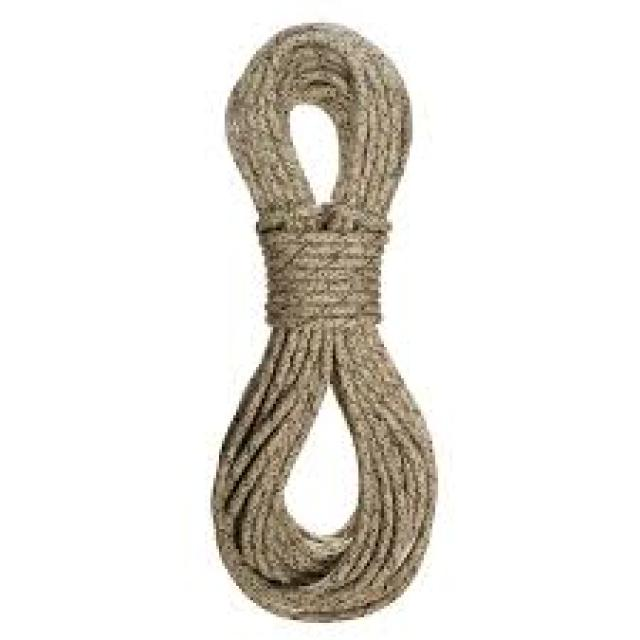rope: (216, 23, 441, 626)
